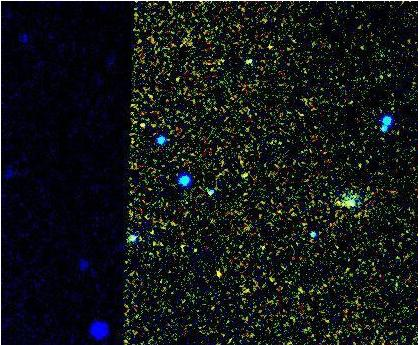star: (203, 258, 233, 288)
